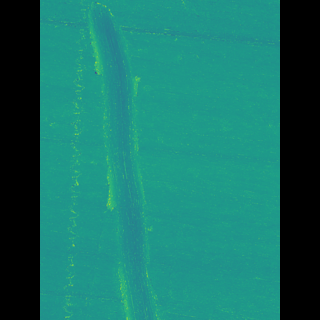Loch: (104, 0, 168, 320)
